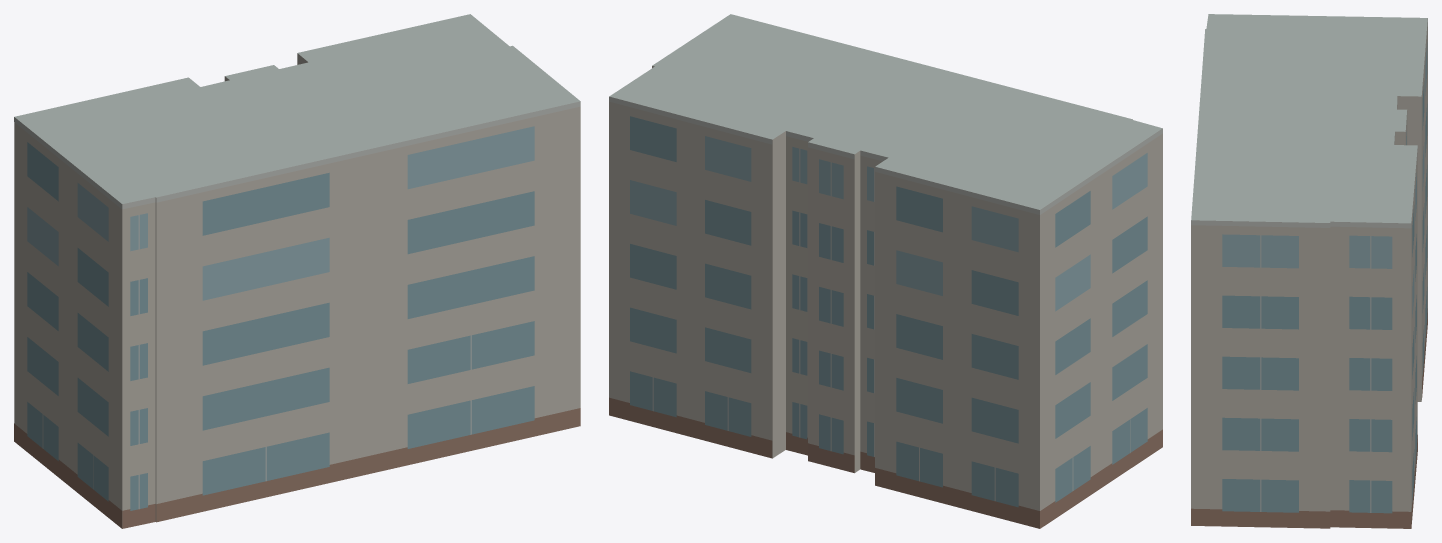
File: survey-upis-32659766.glb
3 renders of one model, left to right at view 1: azimuth 30°, elevation 25°; view 2: azimuth 150°, elevation 25°; view 3: azimuth 270°, elevation 25°, orthographic. The views are drawn at different scales.
Visible parts, largest first — view 1: survey-upis-32659766.tmp; view 2: survey-upis-32659766.tmp; view 3: survey-upis-32659766.tmp.
Part boxes in pixels (bbox=[...]): survey-upis-32659766.tmp: bbox=[14, 14, 580, 528]; survey-upis-32659766.tmp: bbox=[609, 14, 1162, 528]; survey-upis-32659766.tmp: bbox=[1191, 14, 1427, 528].
Bounding box in the file's own units: 22.39 × 15.23 × 10.7.
